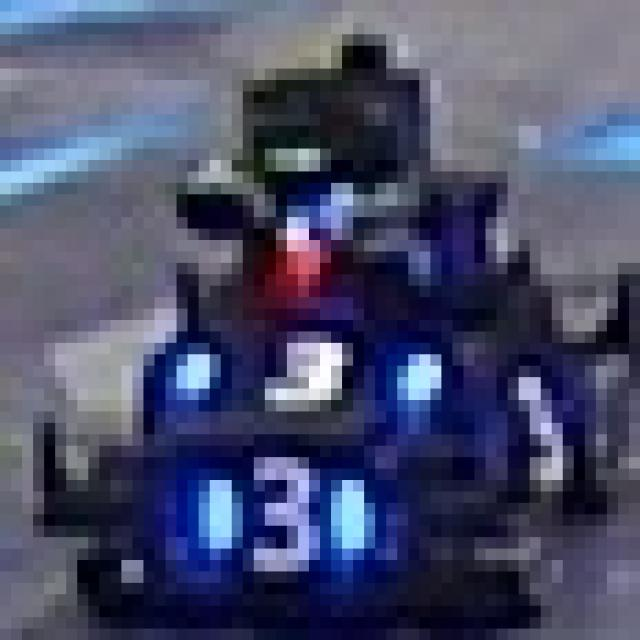B3: (188, 446, 375, 583)
